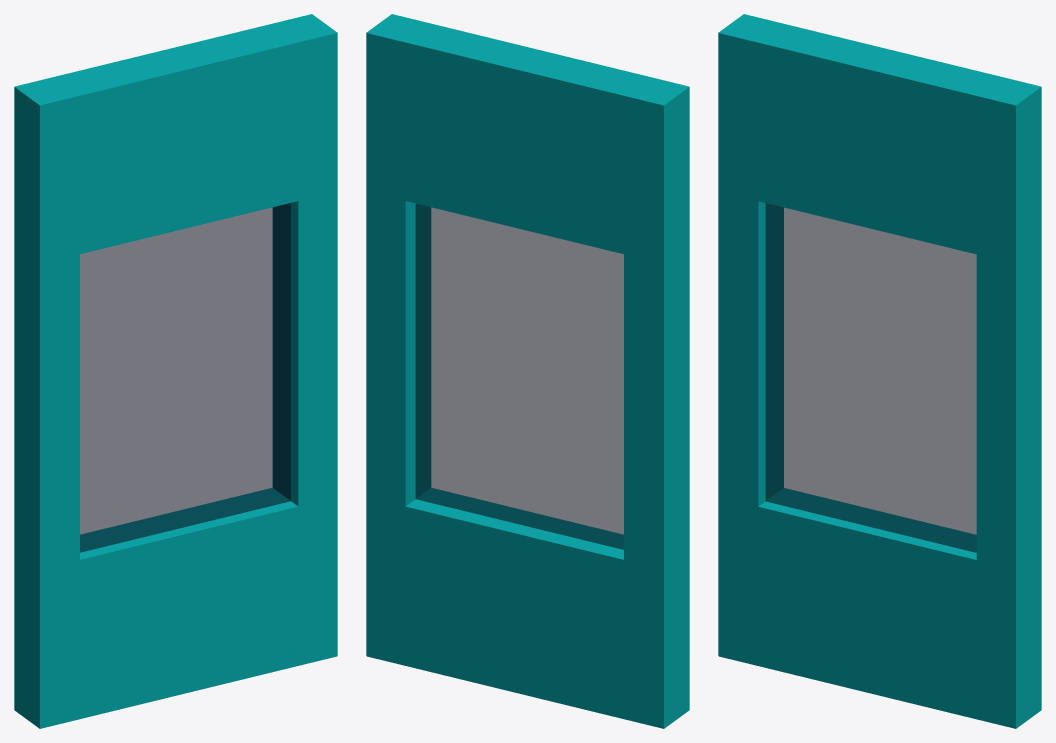
Rendered from TurquoiseWindow.glb.
3 views of the same model, side by side, from view 1: azimuth 30°, elevation 25°; view 2: azimuth 150°, elevation 25°; view 3: azimuth 330°, elevation 25° (orthographic).
Parts seen in each view (by area): view 1: wall_turquoise_window; view 2: wall_turquoise_window; view 3: wall_turquoise_window.
Boxes of the visible parts, x1,y1,x2,y2 form: wall_turquoise_window: [14, 14, 337, 728]; wall_turquoise_window: [366, 14, 689, 728]; wall_turquoise_window: [718, 14, 1041, 728].
Size of what is drawn, in the model's own units: 2 by 4 by 0.3.
2 materials, 2 textured.
